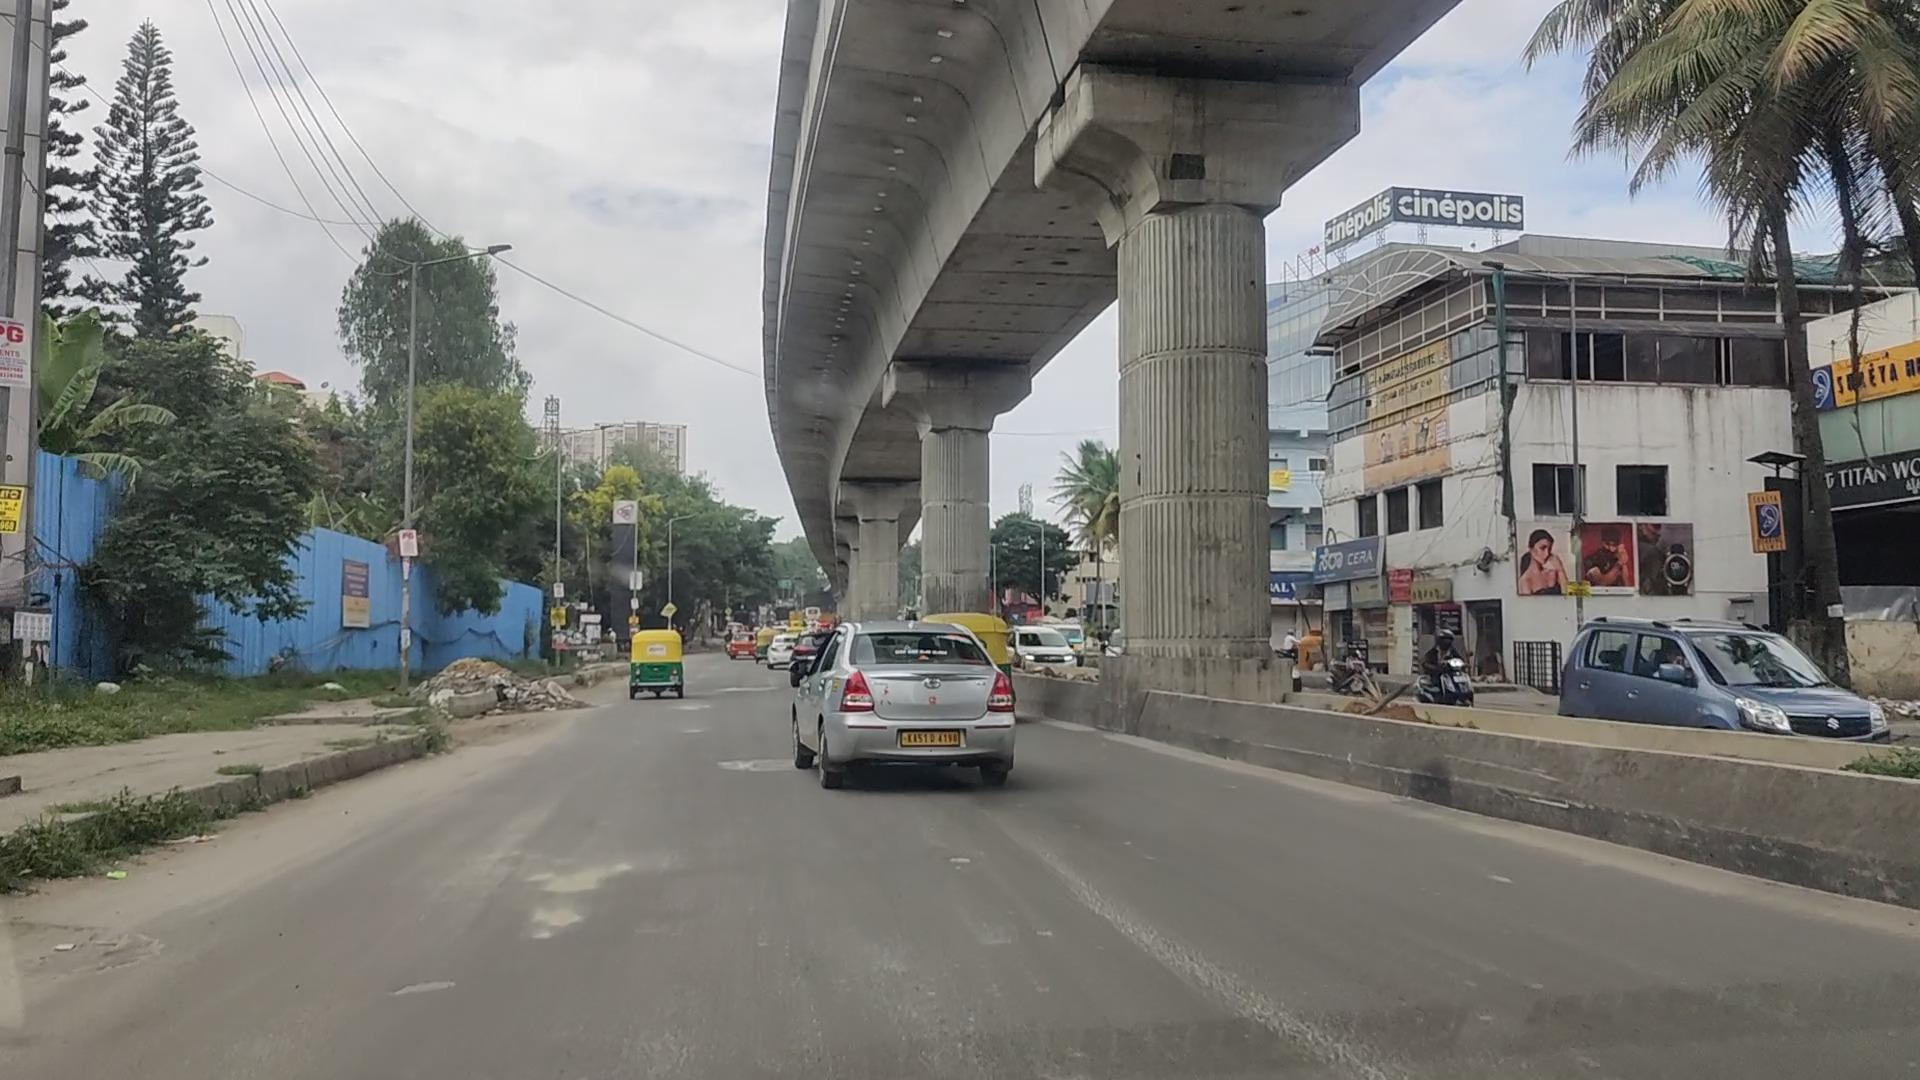LMV: (783, 613, 1022, 794), (630, 629, 695, 698)
RoadDamages: (1246, 949, 1458, 1080), (1114, 897, 1225, 964), (1011, 835, 1113, 887)
